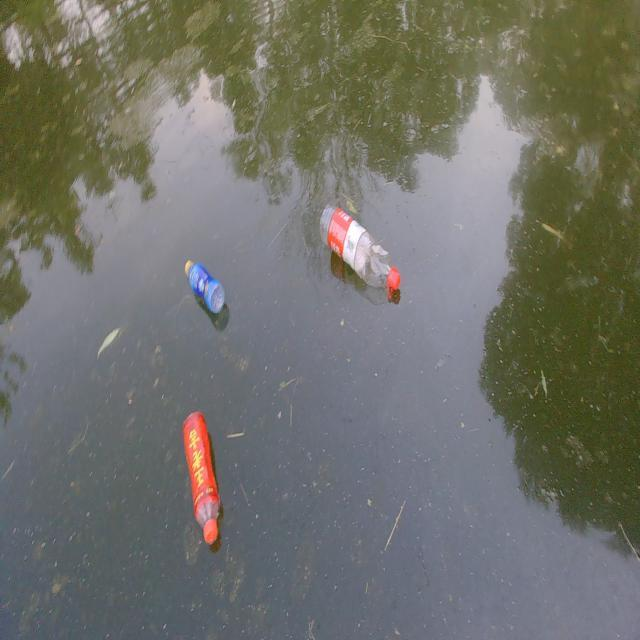garbage: (318, 203, 400, 299), (182, 410, 220, 544), (184, 258, 226, 315)
